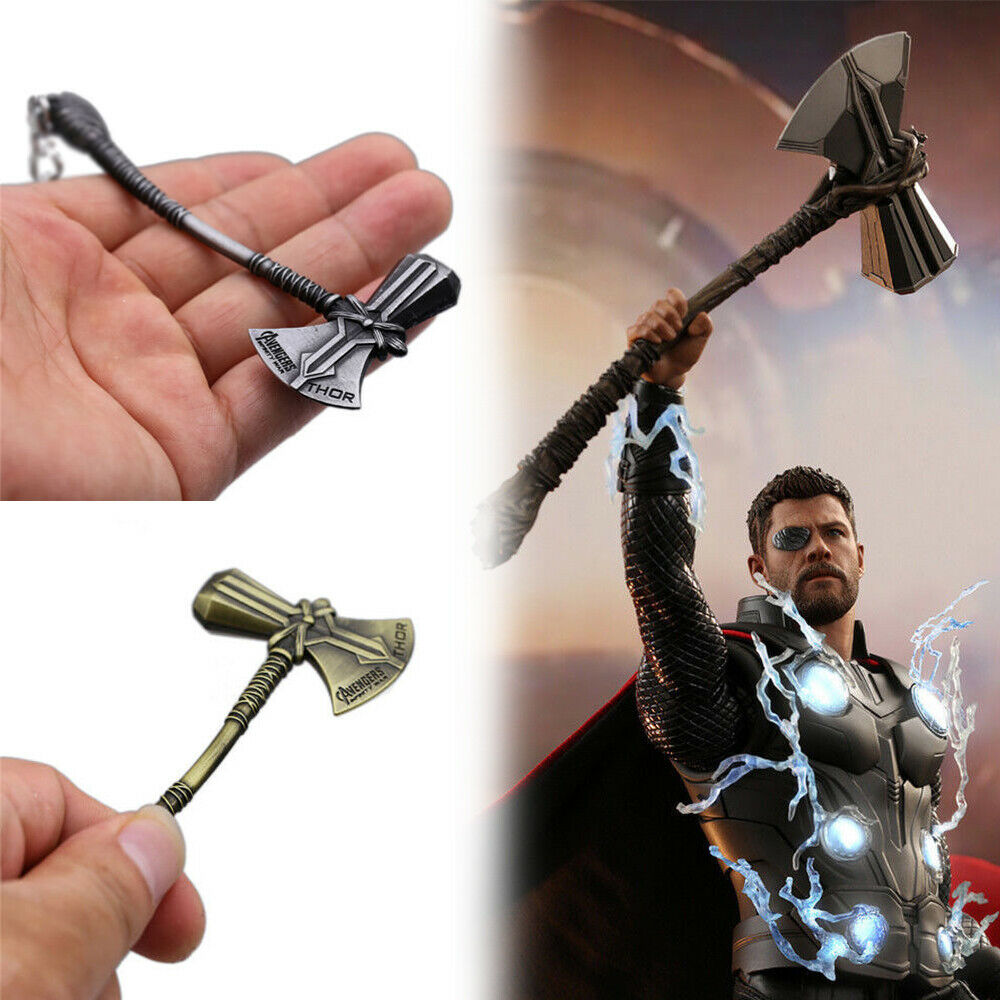THOR Hammer: (476, 36, 966, 584), (35, 70, 458, 444), (152, 552, 429, 867), (607, 302, 774, 454)
